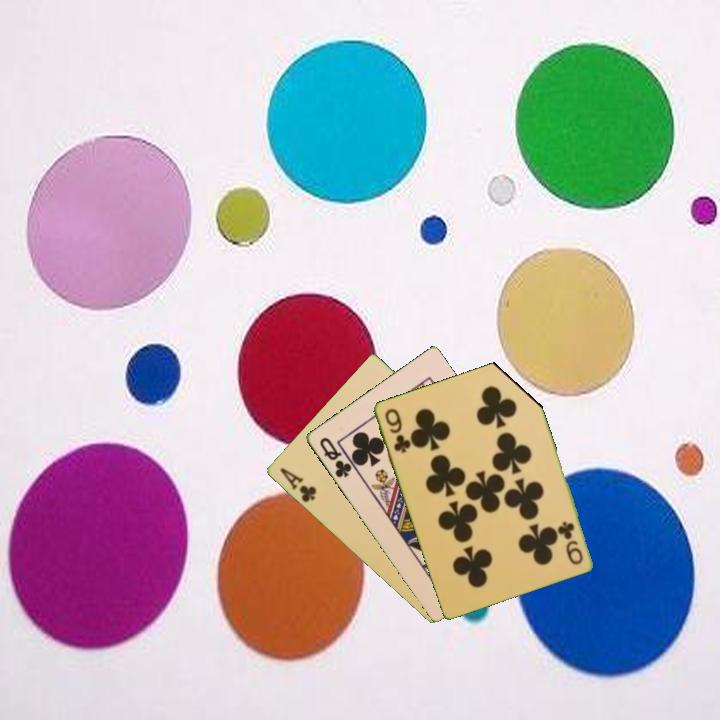9c: (381, 405, 412, 456), (555, 518, 586, 568)
Ac: (276, 464, 319, 505)
Qc: (315, 434, 354, 481)
